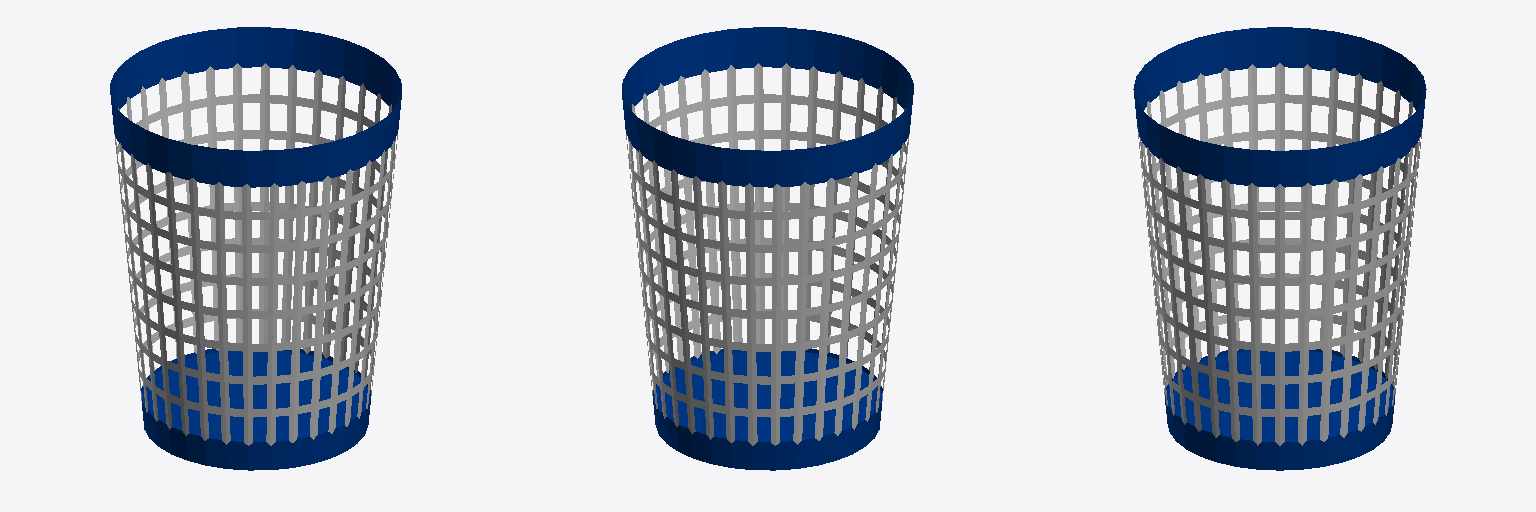
File: Dustbin.obj
3 views of the same model, side by side, from view 1: azimuth 30°, elevation 25°; view 2: azimuth 150°, elevation 25°; view 3: azimuth 270°, elevation 25° (orthographic).
Parts seen in each view (by area): view 1: Cylinder; view 2: Cylinder; view 3: Cylinder.
Part boxes in pixels (x1,y1,x2,y2): Cylinder: (110,27,401,470); Cylinder: (622,27,913,470); Cylinder: (1133,27,1426,470).
Size of the model in its own units: 2.6 by 3.27 by 2.6.